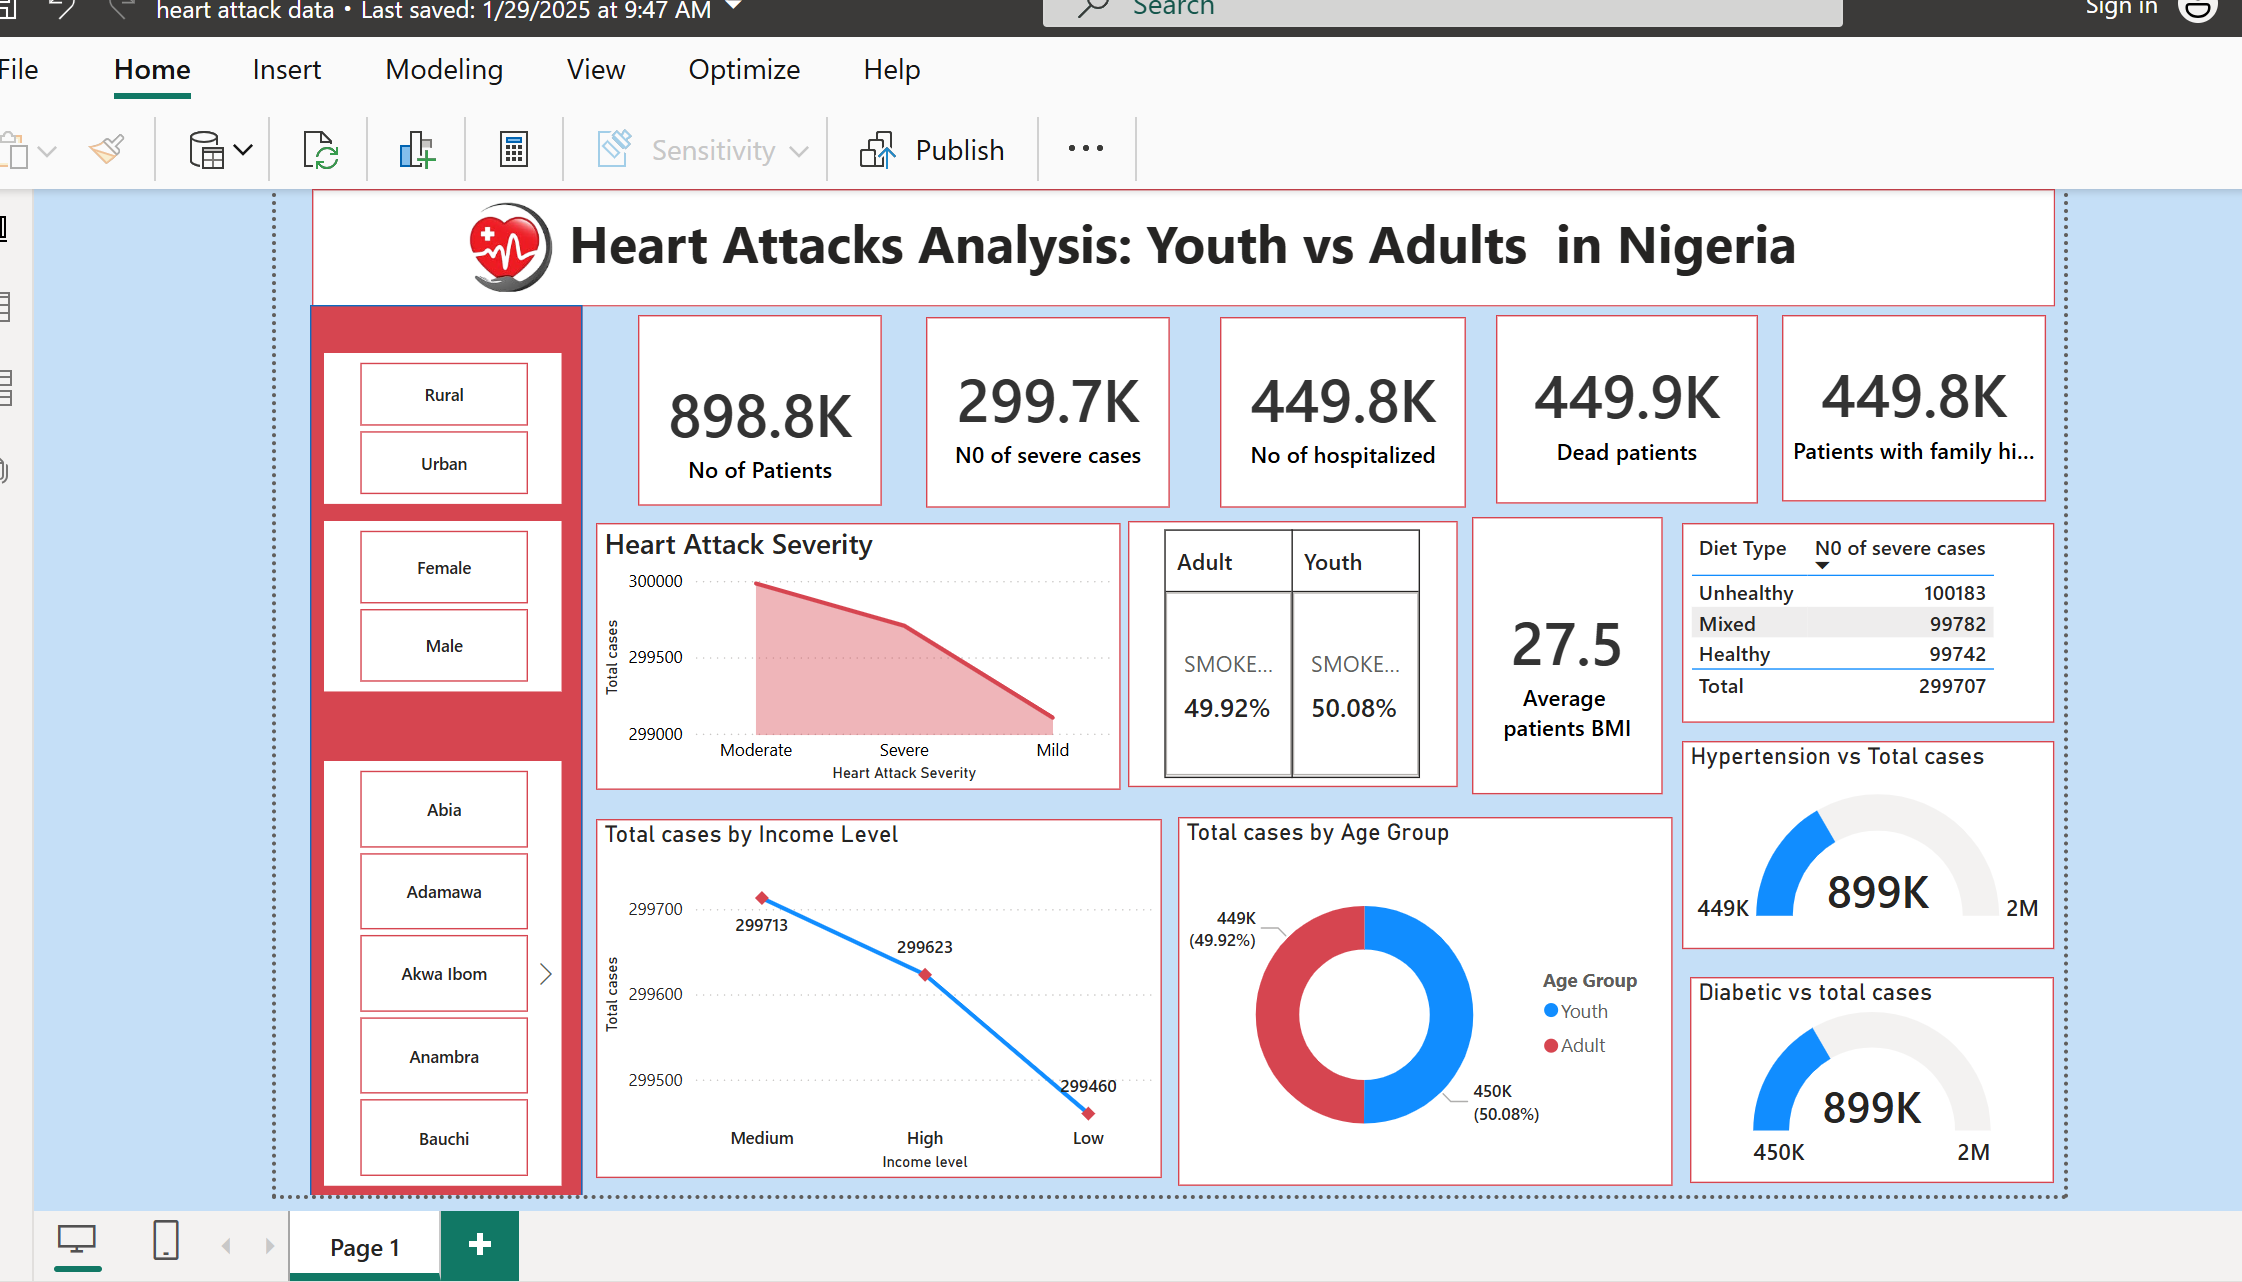

The dashboard page shown, as its layout file describes it:
{"tool":"powerbi","page":{"name":"Page 1","canvas":[1280,720],"ordinal":0},"visuals":[{"type":"shape","box":[25.4,0,1247.6,84.1],"z":0},{"type":"textbox","box":[79.5,7.6,1138,64.4],"z":1000},{"type":"card","title":"No of Patients","fields":{"Values":["heart_attack_youth_vs_adult_nigeria.TOtal cases"]},"box":[258.7,90.5,174.6,136.5],"z":2000},{"type":"shape","box":[25,83.3,195,638.3],"z":3000},{"type":"cardVisual","fields":{"Rows":["heart_attack_youth_vs_adult_nigeria.Age_Group"],"Data":["heart_attack_youth_vs_adult_nigeria.Total  cases"]},"box":[609.8,237.6,236.2,190.4],"z":4000},{"type":"card","fields":{"Values":["heart_attack_youth_vs_adult_nigeria.yes hospital"]},"box":[676.2,92.1,176.2,136.5],"z":5000},{"type":"card","fields":{"Values":["heart_attack_youth_vs_adult_nigeria.% of severe cases"]},"box":[465.1,92.1,174.6,136.5],"z":6000},{"type":"stackedAreaChart","title":" Heart Attack Severity","fields":{"Category":["heart_attack_youth_vs_adult_nigeria.Heart_Attack_Severity"],"Y":["heart_attack_youth_vs_adult_nigeria.Total  cases"]},"box":[229.2,238.5,375.4,190.8],"z":7000},{"type":"image","box":[111.7,0,108.3,78.3],"z":8000},{"type":"slicer","fields":{"Values":["heart_attack_youth_vs_adult_nigeria.Gender"]},"box":[34,238,170,122],"z":9000},{"type":"slicer","fields":{"Values":["heart_attack_youth_vs_adult_nigeria.Urban_Rural"]},"box":[34,118,170,108],"z":10000},{"type":"slicer","fields":{"Values":["heart_attack_youth_vs_adult_nigeria.State"]},"box":[34,410,170,304],"z":11000},{"type":"lineChart","title":"Total  cases by Income Level","fields":{"Y":["heart_attack_youth_vs_adult_nigeria.Total  cases"],"Category":["heart_attack_youth_vs_adult_nigeria.Income_Level"]},"box":[229.1,450.6,405.1,257],"z":12000},{"type":"card","fields":{"Values":["heart_attack_youth_vs_adult_nigeria.Dead"]},"box":[873,90.5,187.3,134.9],"z":13000},{"type":"card","fields":{"Values":["Avg(heart_attack_youth_vs_adult_nigeria.BMI)"]},"box":[855.6,234.9,136.5,198.4],"z":14000},{"type":"donutChart","fields":{"Category":["heart_attack_youth_vs_adult_nigeria.Age_Group"],"Y":["heart_attack_youth_vs_adult_nigeria.Total  cases"]},"box":[646,450,354,264],"z":15000},{"type":"gauge","title":"Hypertension vs Total cases","fields":{"MinValue":["heart_attack_youth_vs_adult_nigeria.hypertensive"],"Y":["heart_attack_youth_vs_adult_nigeria.Total  cases"]},"box":[1006.3,395.2,266.7,149.2],"z":16000},{"type":"gauge","title":" Diabetic vs total cases","fields":{"MinValue":["heart_attack_youth_vs_adult_nigeria.Diabetic"],"Y":["heart_attack_youth_vs_adult_nigeria.Total  cases"]},"box":[1012,564,260.5,147.4],"z":17000},{"type":"card","fields":{"Values":["heart_attack_youth_vs_adult_nigeria.family history"]},"box":[1077.8,90.5,188.9,133.3],"z":18000},{"type":"tableEx","fields":{"Values":["heart_attack_youth_vs_adult_nigeria.Diet_Type","heart_attack_youth_vs_adult_nigeria.N0 of severe cases"]},"box":[1006.3,239.7,266.7,142.9],"z":19000}]}

Visuals, with their boxes on the page's 1280x720 design canvas (x1, y1, x2, y2). These are canvas units, not pixel positions in the 2242x1282 screenshot, which may show the page scaled, cropped or inside an application window:
shape: [25, 0, 1273, 84]
textbox: [80, 8, 1218, 72]
"No of Patients" card: [259, 90, 433, 227]
shape: [25, 83, 220, 722]
cardVisual - heart_attack_youth_vs_adult_nigeria.Age_Group x heart_attack_youth_vs_adult_nigeria.Total  cases: [610, 238, 846, 428]
card - heart_attack_youth_vs_adult_nigeria.yes hospital: [676, 92, 852, 229]
card - heart_attack_youth_vs_adult_nigeria.% of severe cases: [465, 92, 640, 229]
" Heart Attack Severity" stackedAreaChart: [229, 238, 605, 429]
image: [112, 0, 220, 78]
slicer - heart_attack_youth_vs_adult_nigeria.Gender: [34, 238, 204, 360]
slicer - heart_attack_youth_vs_adult_nigeria.Urban_Rural: [34, 118, 204, 226]
slicer - heart_attack_youth_vs_adult_nigeria.State: [34, 410, 204, 714]
"Total  cases by Income Level" lineChart: [229, 451, 634, 708]
card - heart_attack_youth_vs_adult_nigeria.Dead: [873, 90, 1060, 225]
card - Avg(heart_attack_youth_vs_adult_nigeria.BMI): [856, 235, 992, 433]
donutChart - heart_attack_youth_vs_adult_nigeria.Age_Group x heart_attack_youth_vs_adult_nigeria.Total  cases: [646, 450, 1000, 714]
"Hypertension vs Total cases" gauge: [1006, 395, 1273, 544]
" Diabetic vs total cases" gauge: [1012, 564, 1272, 711]
card - heart_attack_youth_vs_adult_nigeria.family history: [1078, 90, 1267, 224]
tableEx - heart_attack_youth_vs_adult_nigeria.Diet_Type x heart_attack_youth_vs_adult_nigeria.N0 of severe cases: [1006, 240, 1273, 383]
